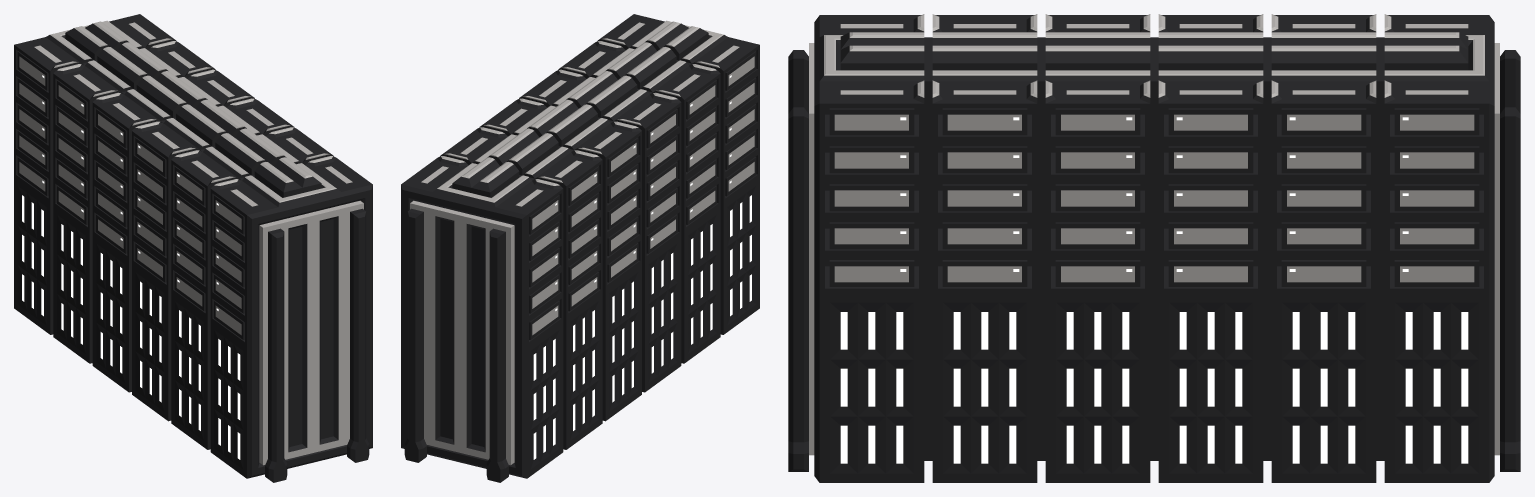
File: server (1).glb
3 views of the same model, side by side, from view 1: azimuth 30°, elevation 25°; view 2: azimuth 150°, elevation 25°; view 3: azimuth 270°, elevation 25° (orthographic). The views are drawn at different scales.
Parts seen in each view (by area): view 1: Server_Body; view 2: Server_Body; view 3: Server_Body.
Part boxes in pixels (bbox=[...]): Server_Body: bbox=[14, 14, 372, 482]; Server_Body: bbox=[401, 14, 759, 482]; Server_Body: bbox=[788, 14, 1520, 482].
Bounding box in the file's own units: 100 × 210 × 350.
1 material, 1 textured.
